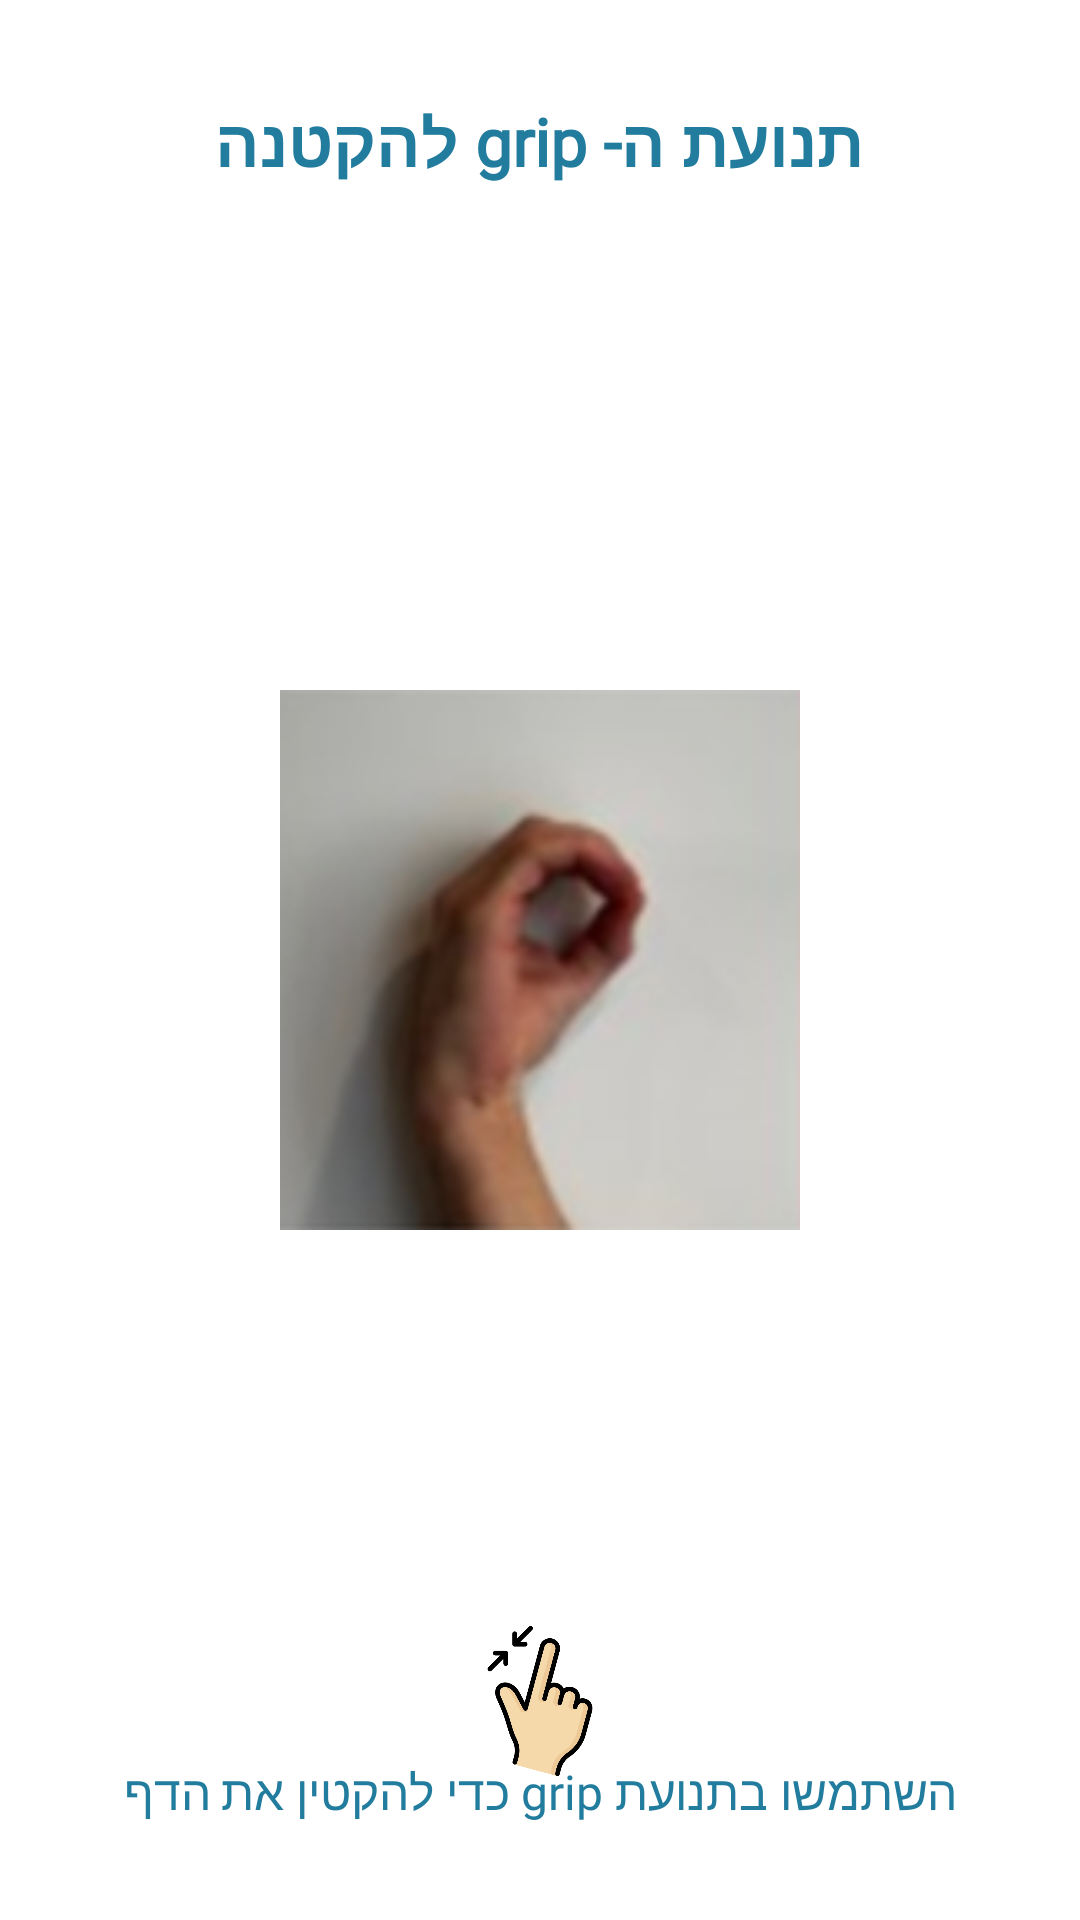

Where to tap for icons on this 1080x1920 app screen, as point (x, y):
zoom out: point (540, 1701)
